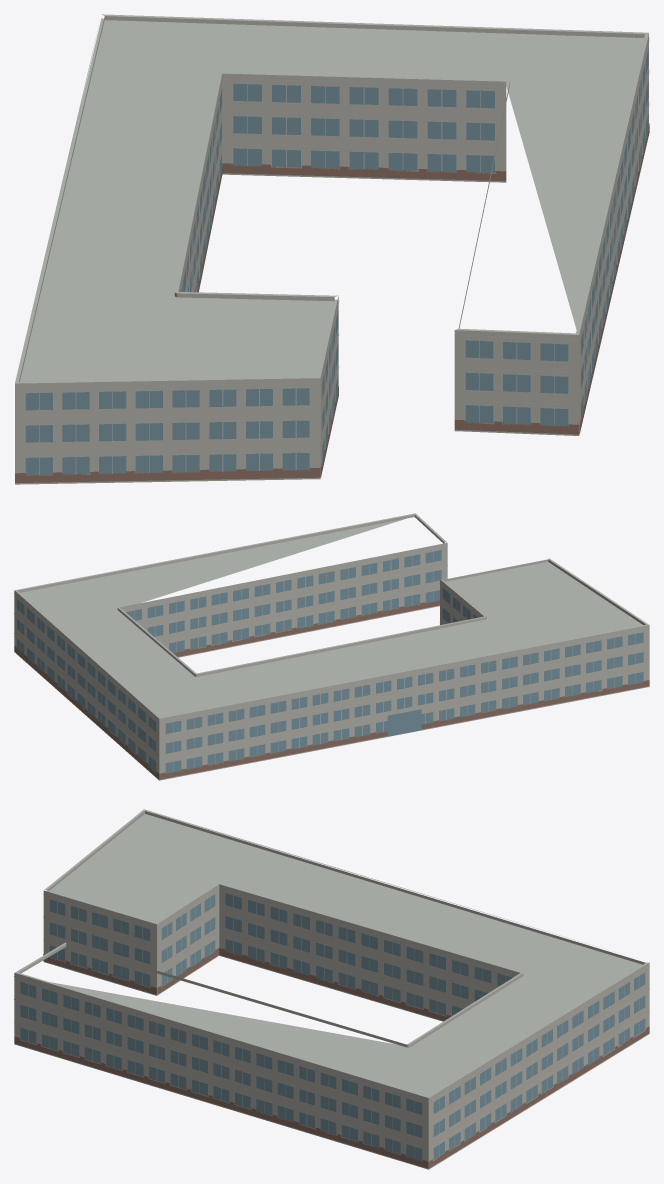
File: public-ed98abda-4311-47df-a378-6dce400793e1.glb
3 views of the same model, one above another, from view 1: azimuth 30°, elevation 25°; view 2: azimuth 150°, elevation 25°; view 3: azimuth 270°, elevation 25° (orthographic). The views are drawn at different scales.
Parts seen in each view (by area): view 1: public-ed98abda-4311-47df-a378-6dce400793e1; view 2: public-ed98abda-4311-47df-a378-6dce400793e1; view 3: public-ed98abda-4311-47df-a378-6dce400793e1.
Part boxes in pixels (box(x1,y1,x2,y2)): public-ed98abda-4311-47df-a378-6dce400793e1: box(15, 14, 649, 484); public-ed98abda-4311-47df-a378-6dce400793e1: box(14, 513, 649, 780); public-ed98abda-4311-47df-a378-6dce400793e1: box(14, 809, 649, 1169).
Size of the model in its own units: 79.28 by 9.15 by 73.66.
